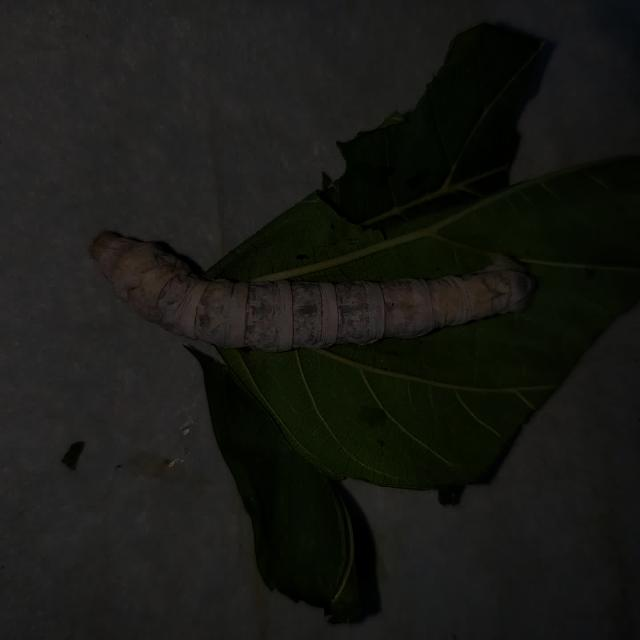Grasserie: (74, 198, 559, 388)
